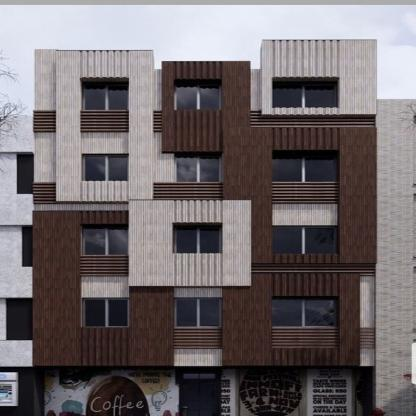Building Outline: (33, 39, 376, 416)
Door: (179, 368, 221, 416)
Facade: (33, 69, 376, 416)
Floor: (33, 191, 376, 263), (33, 267, 376, 335), (33, 122, 376, 187)
Floor Slab: (33, 118, 376, 122), (33, 187, 376, 190), (33, 263, 376, 266), (33, 335, 376, 338)
Ground Floor: (33, 338, 376, 416)
Top Floor: (33, 69, 376, 118)
Window: (272, 152, 337, 181), (272, 226, 337, 254), (272, 298, 337, 326), (272, 82, 338, 108), (173, 226, 223, 254), (174, 81, 222, 110), (174, 298, 221, 327), (83, 298, 129, 327), (82, 226, 127, 255), (83, 82, 128, 110), (83, 154, 128, 181), (176, 155, 221, 181)
Window Hole: (272, 150, 340, 181), (272, 296, 340, 327), (272, 77, 338, 108), (272, 225, 339, 254), (174, 151, 224, 182), (80, 78, 128, 110), (80, 224, 128, 256), (173, 223, 223, 253), (81, 297, 131, 327), (173, 297, 223, 327), (174, 79, 222, 110), (80, 154, 129, 181)
